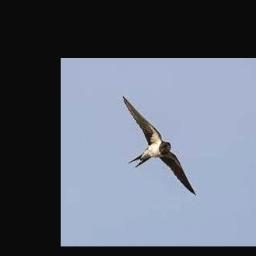Swallow: (121, 96, 196, 196)
